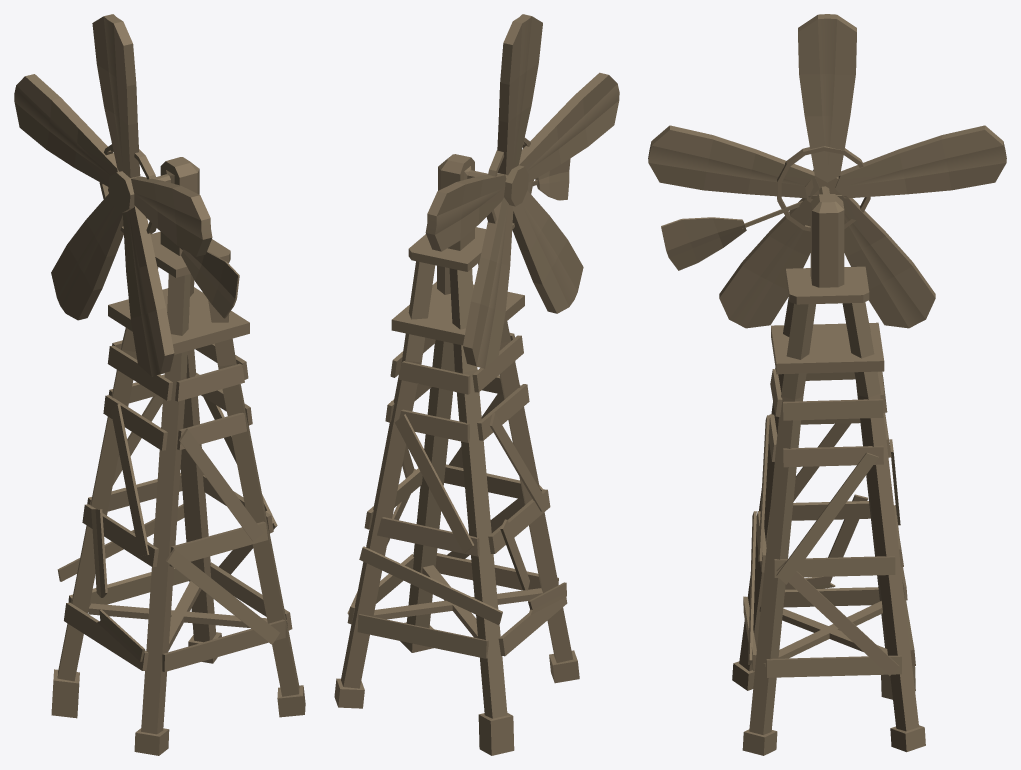
File: coi_xay_gio2.fbx
The picture shows the model from 3 angles, left to right: view 1: azimuth 30°, elevation 25°; view 2: azimuth 150°, elevation 25°; view 3: azimuth 270°, elevation 25°; orthographic projection. The views are drawn at different scales.
Visible parts, largest first — view 1: polySurface1393; view 2: polySurface1393; view 3: polySurface1393.
Part boxes in pixels (x1,y1,x2,y2): polySurface1393: [14, 14, 305, 755]; polySurface1393: [334, 14, 619, 755]; polySurface1393: [648, 14, 1006, 755].
Bounding box in the file's own units: 13.04 × 48.3 × 22.96.
